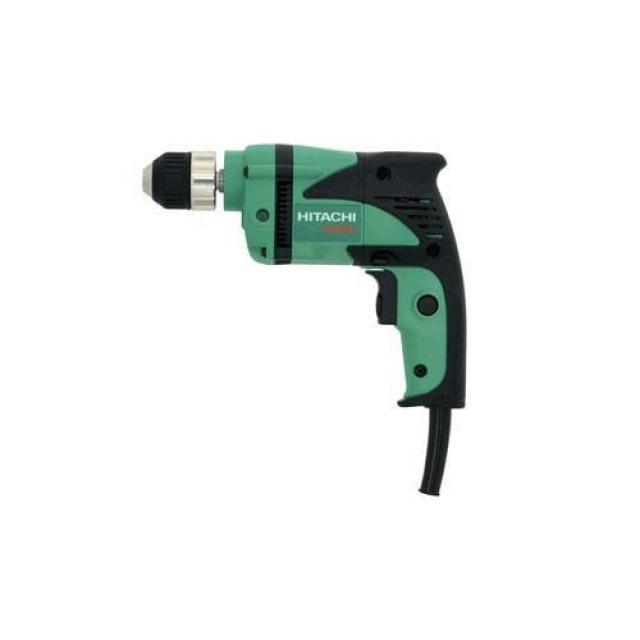drill: (143, 144, 468, 499)
